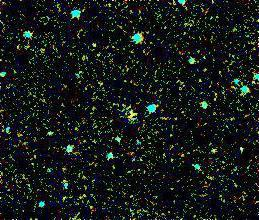star: (118, 101, 148, 131)
